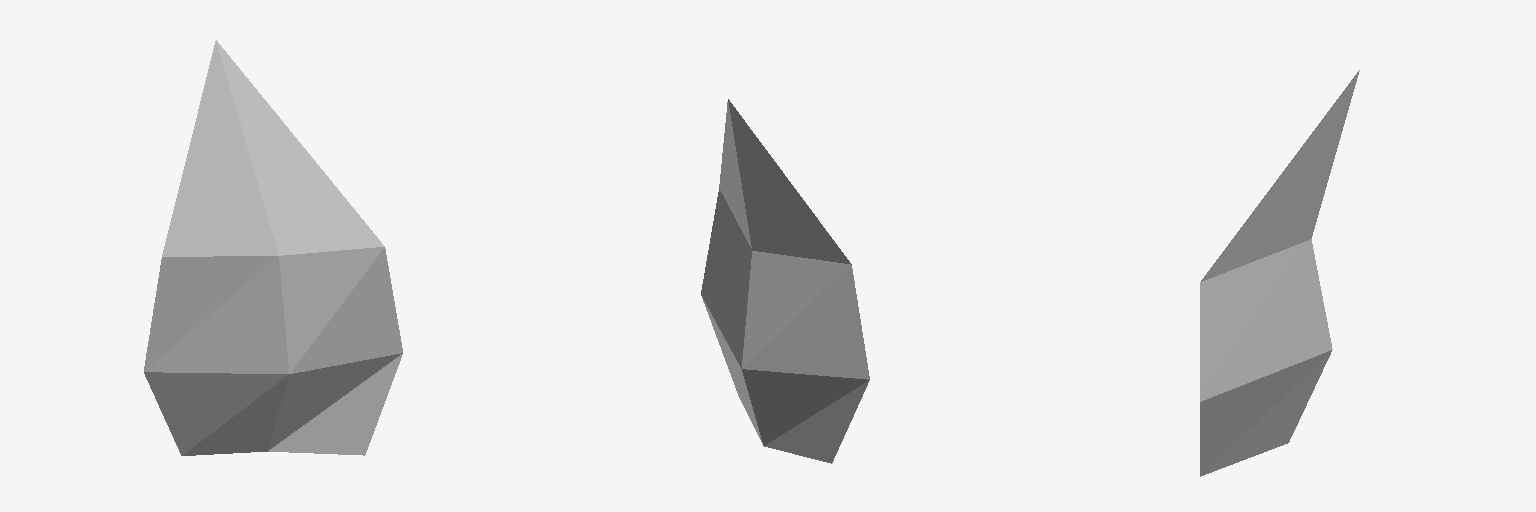
File: maya_cache_jiggle_9.obj
3 renders of one model, left to right at view 1: azimuth 30°, elevation 25°; view 2: azimuth 150°, elevation 25°; view 3: azimuth 270°, elevation 25°, orthographic.
Parts seen in each view (by area): view 1: pCone1; view 2: pCone1; view 3: pCone1.
Part boxes in pixels (x1,y1,x2,y2): pCone1: (144, 40, 402, 455); pCone1: (701, 99, 869, 463); pCone1: (1200, 70, 1359, 476).
Bounding box in the file's own units: 2.41 × 4.02 × 1.56.